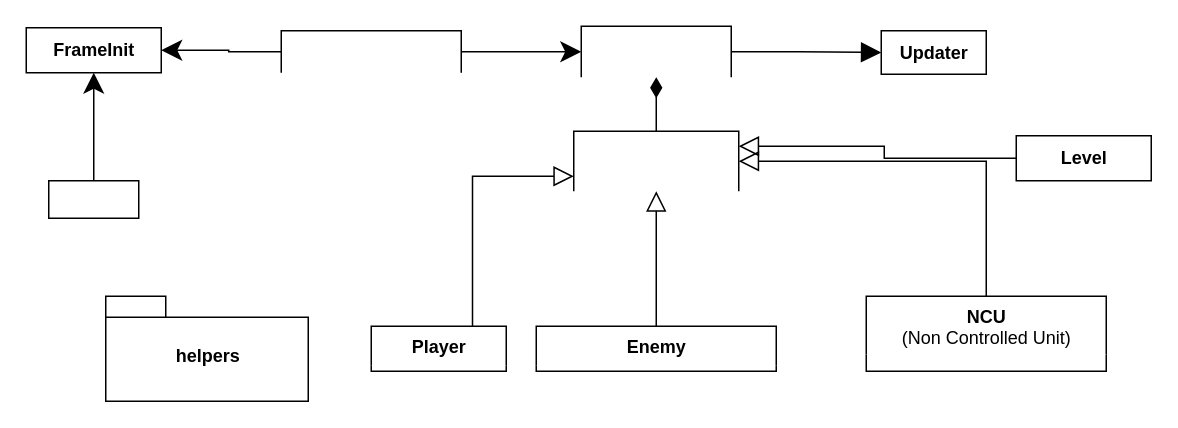
This 1178x428 diagram has some shape labels left out. The shapes that lost their labels are listed below. From the top down, each one's centre as x and y in pixels, then its label:
At pixel 370 51: "Game".
At pixel 655 51: "MapController".
At pixel 655 160: "<<abstract>> MapObject".
At pixel 93 198: "Painter".
